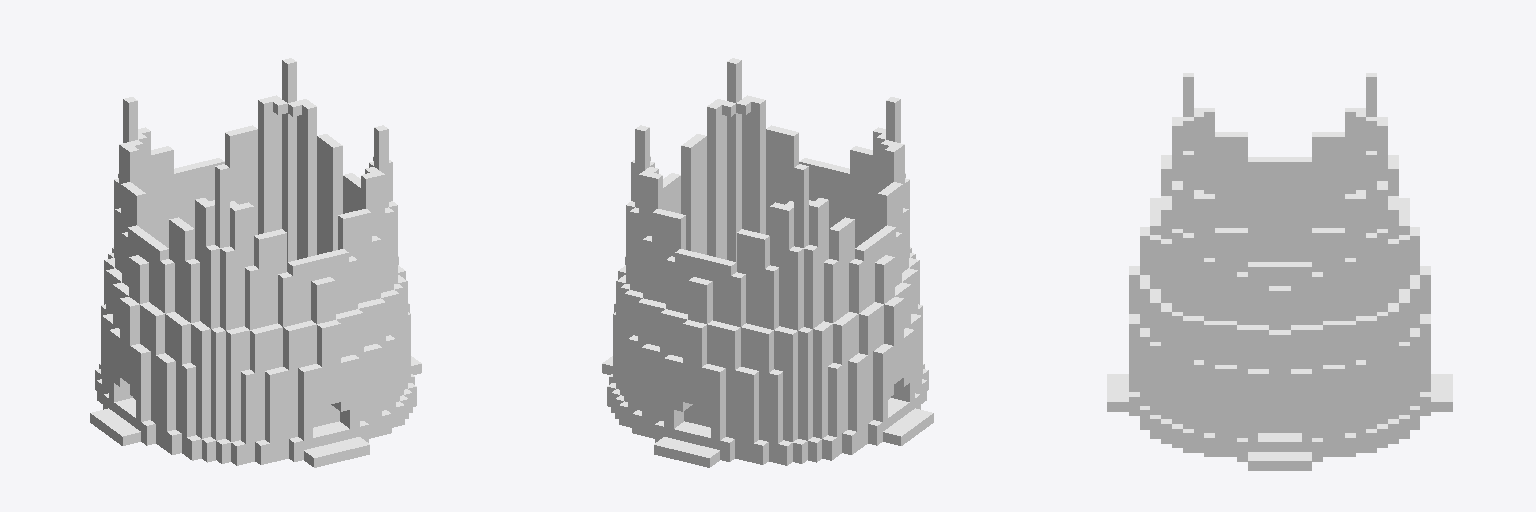
Rendered from market_lowLevel.obj.
The picture shows the model from 3 angles: view 1: azimuth 30°, elevation 25°; view 2: azimuth 150°, elevation 25°; view 3: azimuth 270°, elevation 25°; orthographic projection.
Visible parts, largest first — view 1: object 1; view 2: object 1; view 3: object 1.
Part boxes in pixels (bbox=[...]): object 1: bbox=[90, 58, 421, 467]; object 1: bbox=[602, 58, 933, 467]; object 1: bbox=[1107, 73, 1452, 470].
Size of the model in its own units: 3.2 by 2.9 by 3.2.